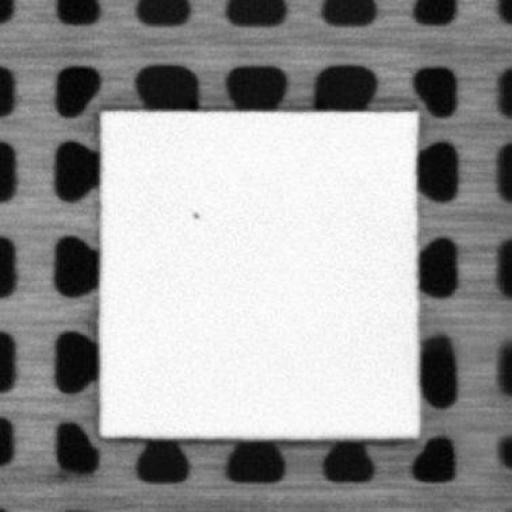DIE_INK: (188, 206, 200, 222)
